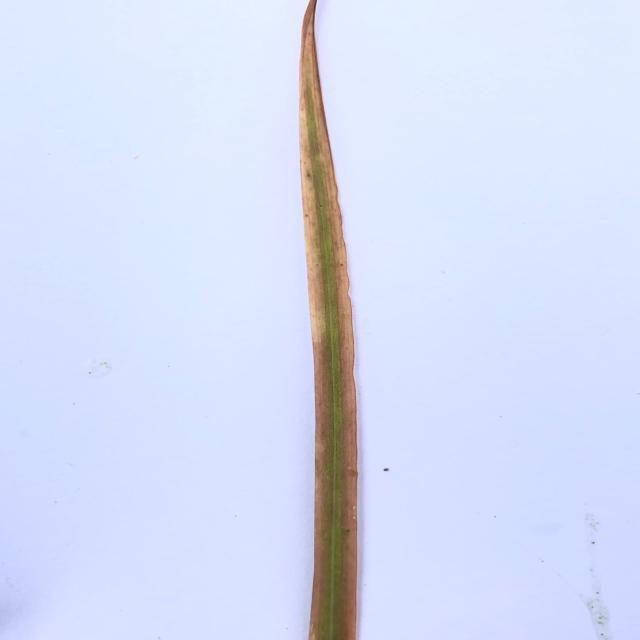Rice Tungro: (325, 88, 369, 362), (295, 96, 325, 354)
